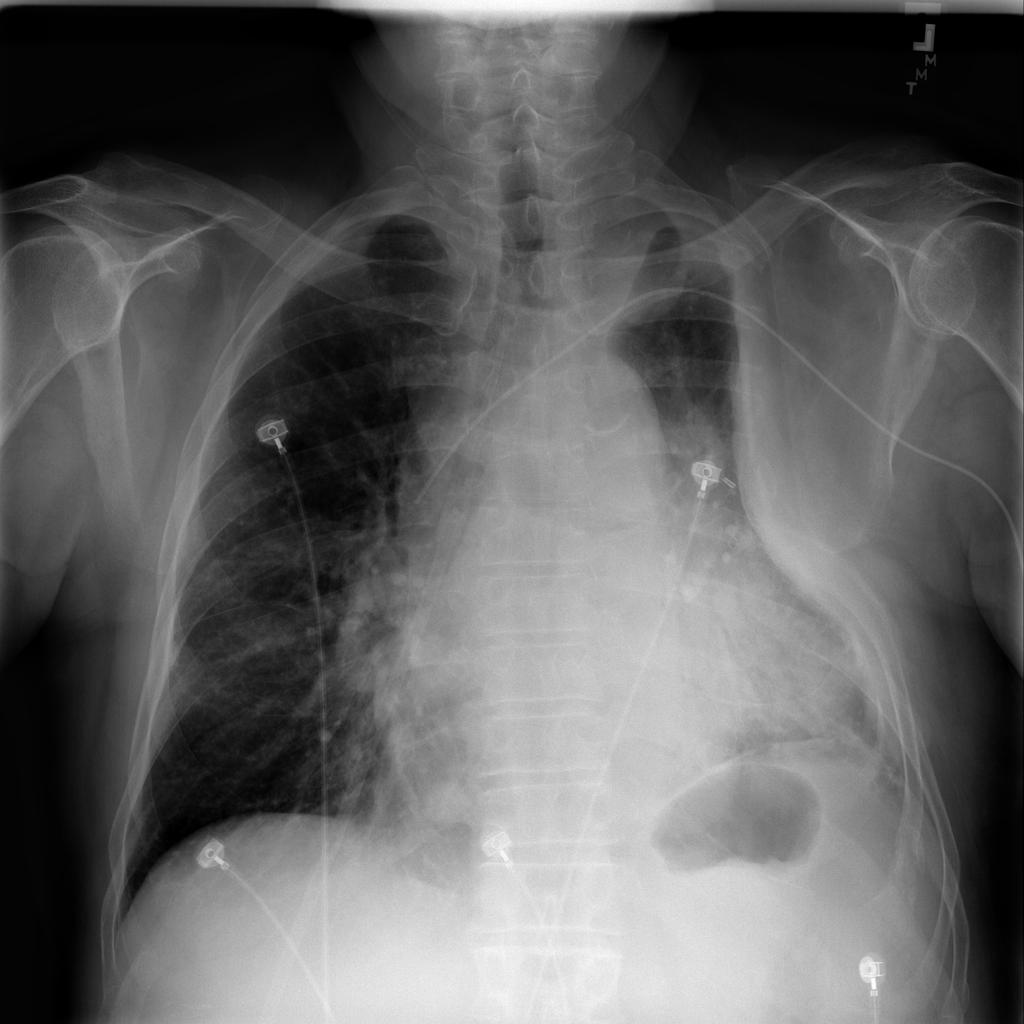nodule: (409, 763, 483, 841)
